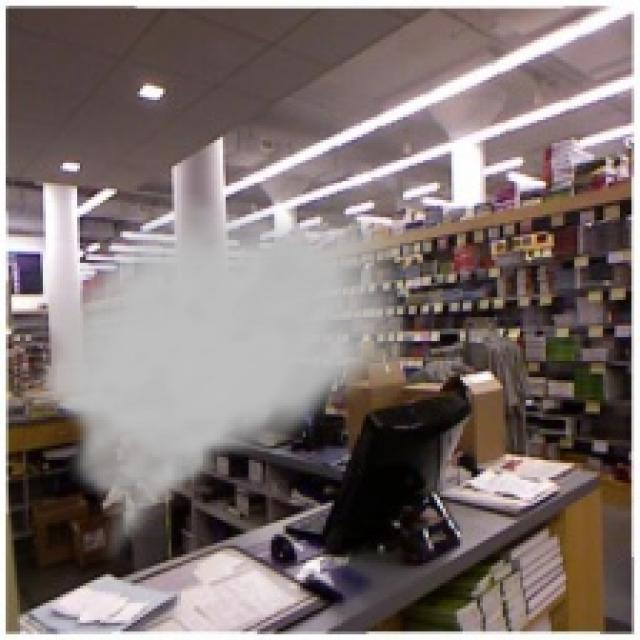smoke: (20, 194, 431, 572)
